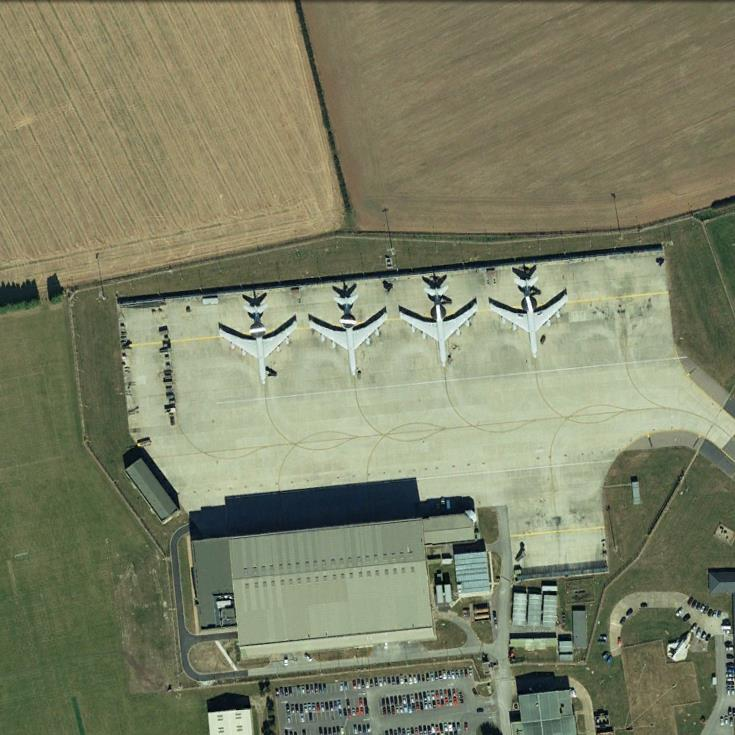A7: (396, 282, 481, 369), (307, 292, 390, 380), (485, 274, 569, 359), (216, 300, 299, 385)
